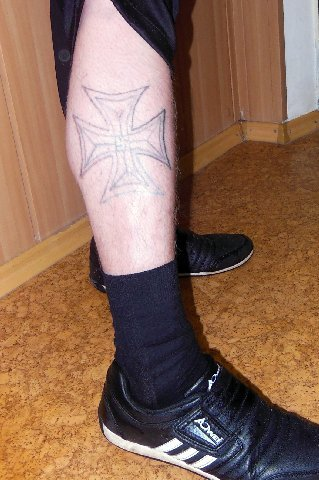tatu9_krest: (77, 79, 171, 211)
